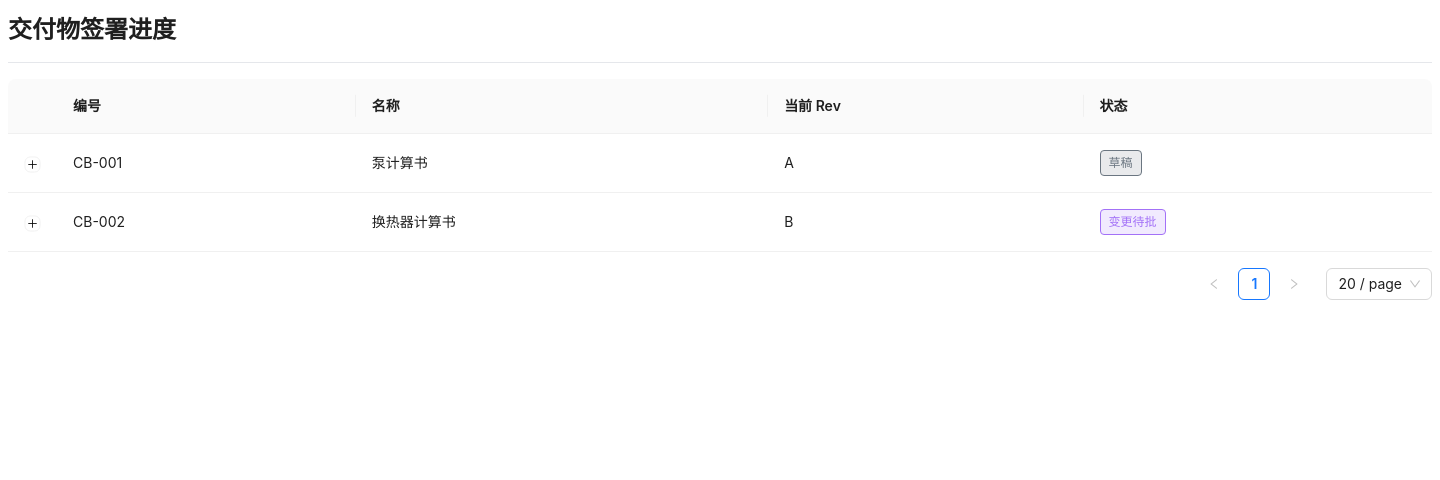
Test case: DeliverableProgressPage —— 交付物进度（SPEC §6.24） › ⚠️ 行**展开**才拉 progress（列表加载时**不**预取 ⇒ 无 N+1）
The width and height of the screenshot is (1440, 480).
expect the text "CB-001" is shown: met, box [57,134,356,193]
Note: 展开第一行（无版本的那行）⇒ 空态 ①
Click the button named "Expand row" next to "CB-001" at (32, 164), box [24,156,40,172]
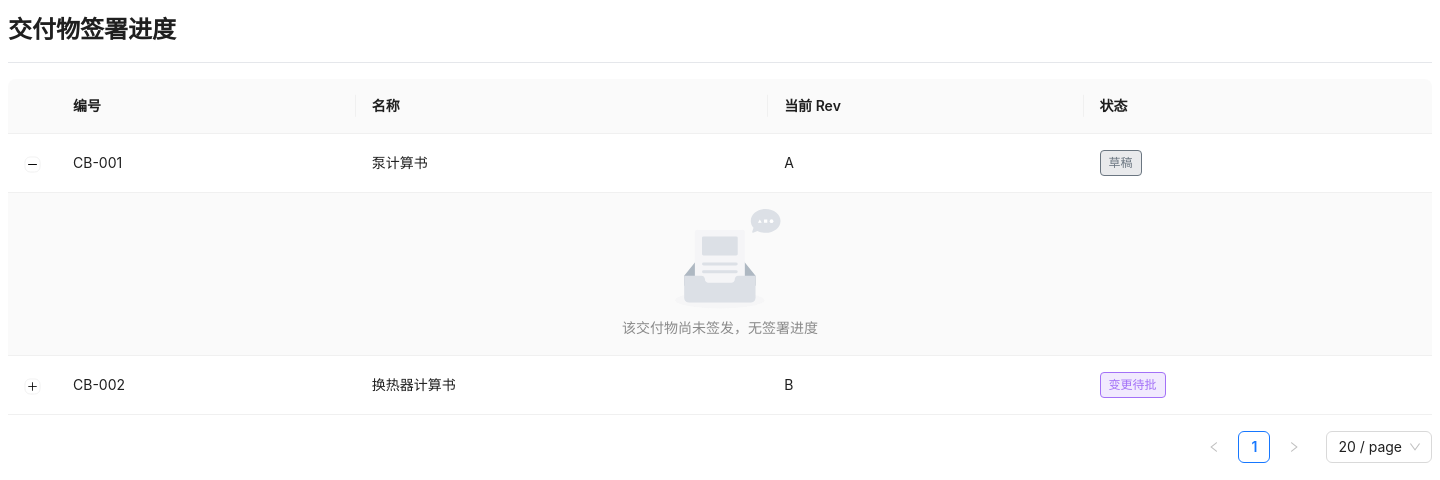
expect the element with test id "deliverable-no-version" is shown: met, box [622,209,818,336]
expect the element with test id "deliverable-no-version" shows "尚未签发": met, box [622,319,818,336]
